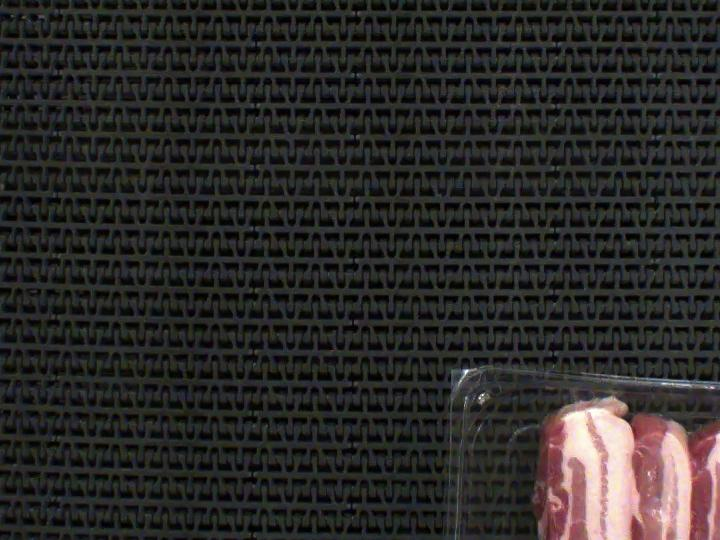packaging-error: (559, 378, 620, 403)
